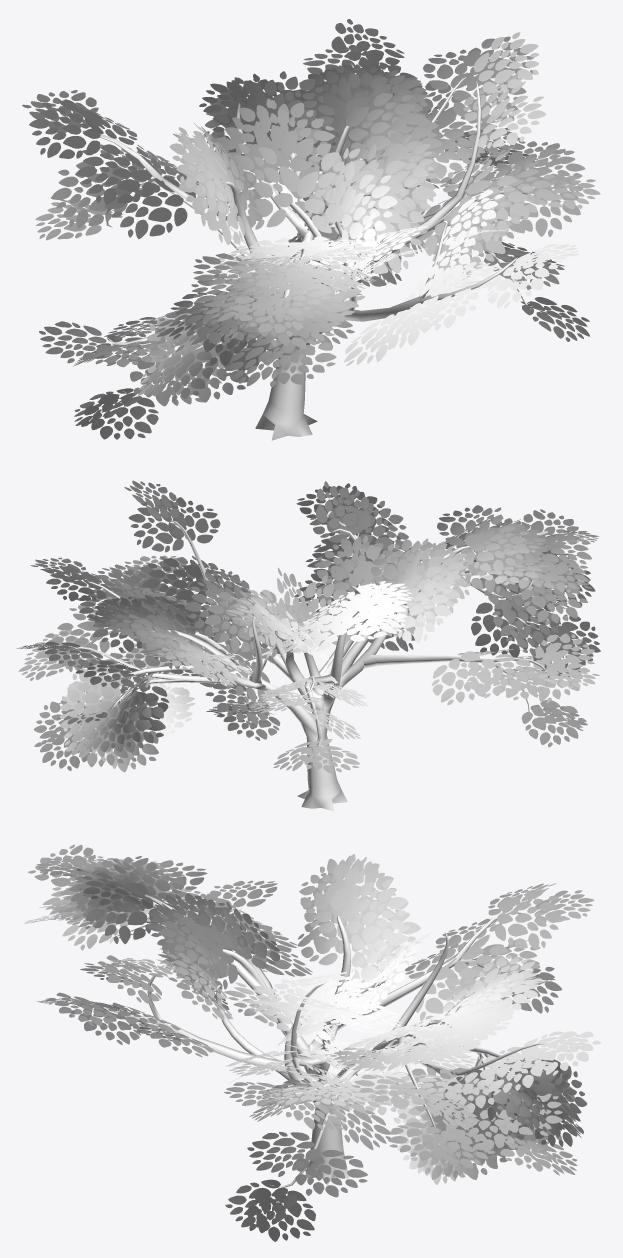
File: tree_acacia.obj
The picture shows the model from 3 angles, top to bottom: view 1: azimuth 30°, elevation 25°; view 2: azimuth 150°, elevation 25°; view 3: azimuth 270°, elevation 25°; orthographic projection. The views are drawn at different scales.
Visible parts, largest first — view 1: generic_deciduous_leaf, object 1; view 2: generic_deciduous_leaf, object 1; view 3: generic_deciduous_leaf, object 1.
Boxes of the visible parts, x1,y1,x2,y2 form: generic_deciduous_leaf: (22, 19, 600, 439); object 1: (82, 62, 531, 440); generic_deciduous_leaf: (16, 480, 600, 773); object 1: (73, 519, 550, 811); generic_deciduous_leaf: (24, 844, 600, 1241); object 1: (76, 868, 546, 1188).
Bounding box in the file's own units: 48.36 × 25.95 × 45.65.
2 materials, 1 textured.
